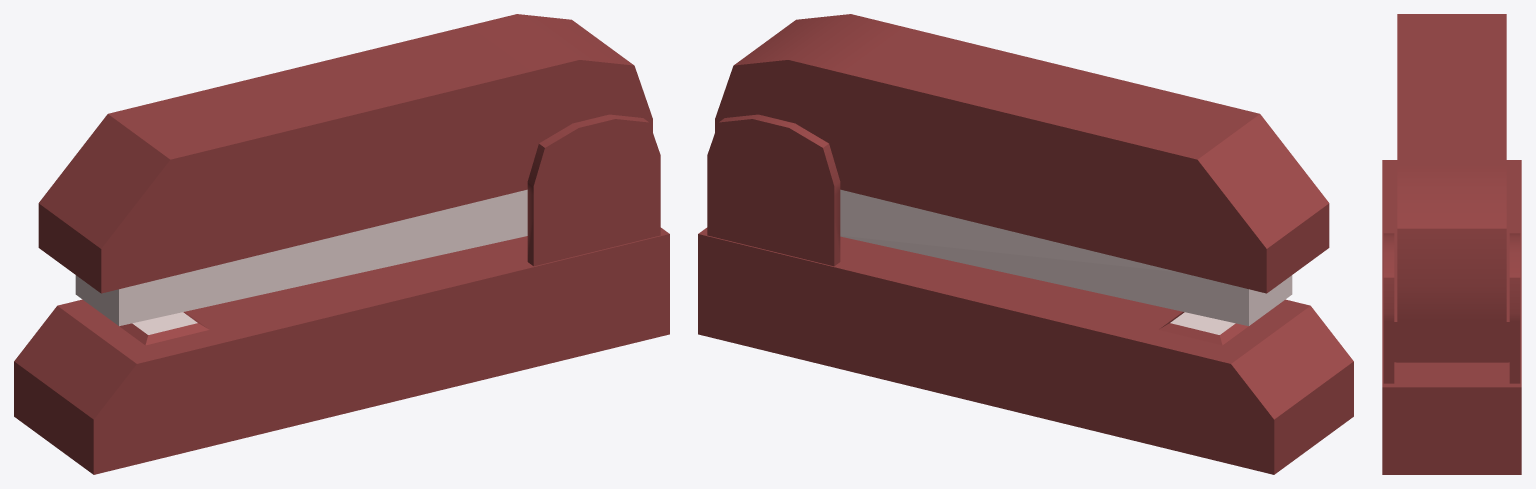
The model's file is Agrafador.FBX.
The picture shows the model from 3 angles, left to right: view 1: azimuth 30°, elevation 25°; view 2: azimuth 150°, elevation 25°; view 3: azimuth 270°, elevation 25°; orthographic projection. The views are drawn at different scales.
Visible parts, largest first — view 1: Box011; view 2: Box011; view 3: Box011.
Boxes of the visible parts, x1=… form: Box011: x1=14, y1=14, x2=669, y2=474; Box011: x1=698, y1=14, x2=1353, y2=474; Box011: x1=1382, y1=14, x2=1521, y2=474.
Size of the model in its own units: 64.48 by 30.84 by 15.45.
